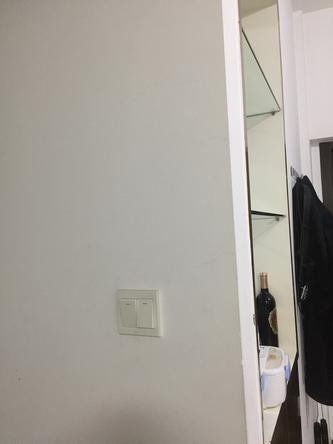switch: (137, 299, 156, 329), (120, 298, 137, 327)
